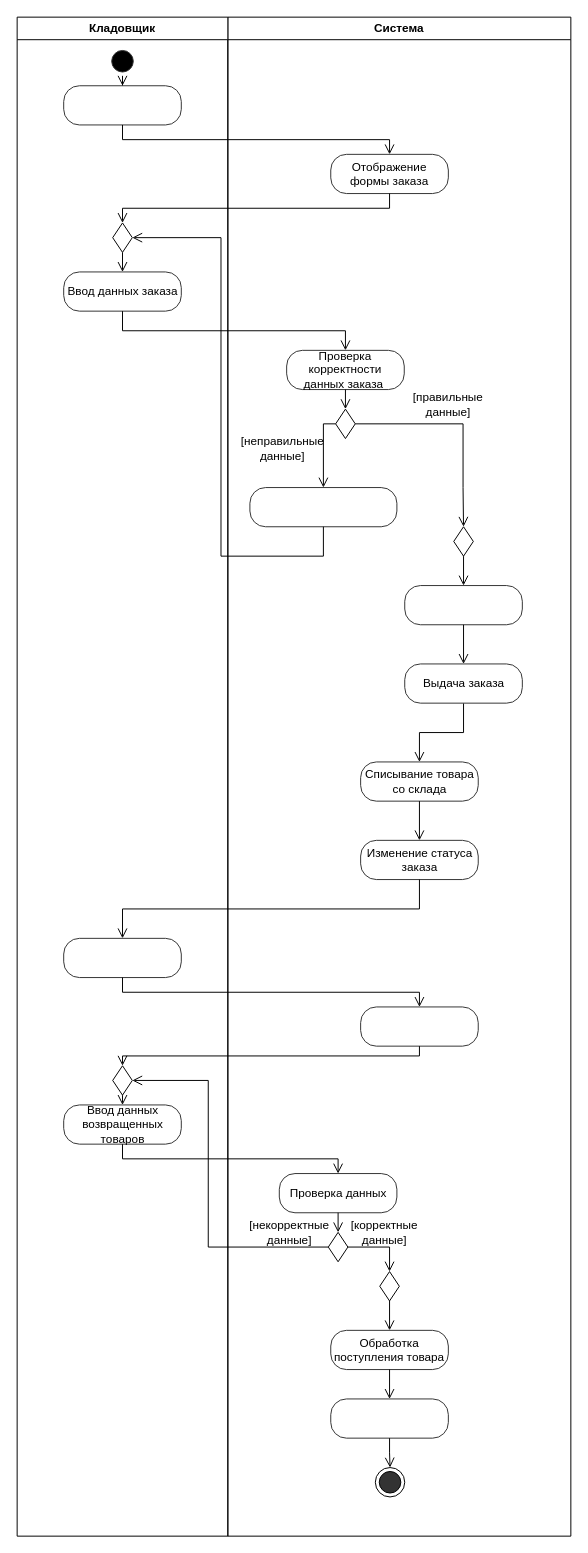
This 588x1553 diagram has some shape labels left out. The centre of each missing label's shape, as x and y in pixels:
Выбор операции "Возврат товара": pixel 122 105
Выбор операции "Прием товара": pixel 122 957
Вывод сообщения об ошибке возврата: pixel 323 507
Обновление данных заказа: pixel 463 605
Обновление количества на складе: pixel 389 1418
Отображение формы приема: pixel 419 1026
